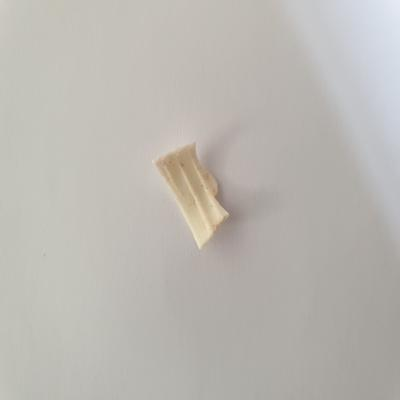plastic: (150, 140, 238, 258)
